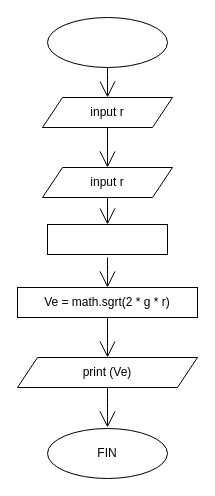
This 215x496 diagram has some shape labels left out. The centre of each missing label's shape, as x and y in pixels:
INICIO: (x=107, y=42)
r = r * 1000: (x=107, y=239)
